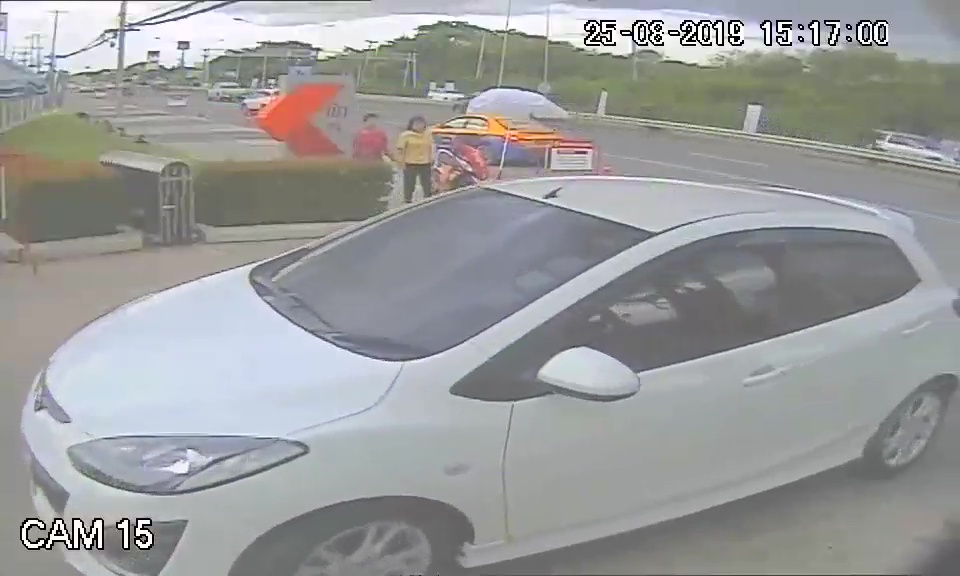sedan: (24, 177, 738, 568)
